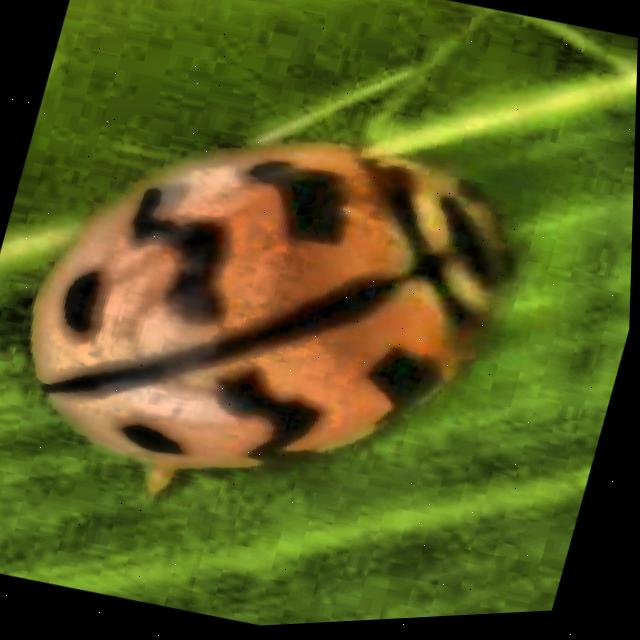Asian-Lady-beetle: (0, 26, 639, 594)
